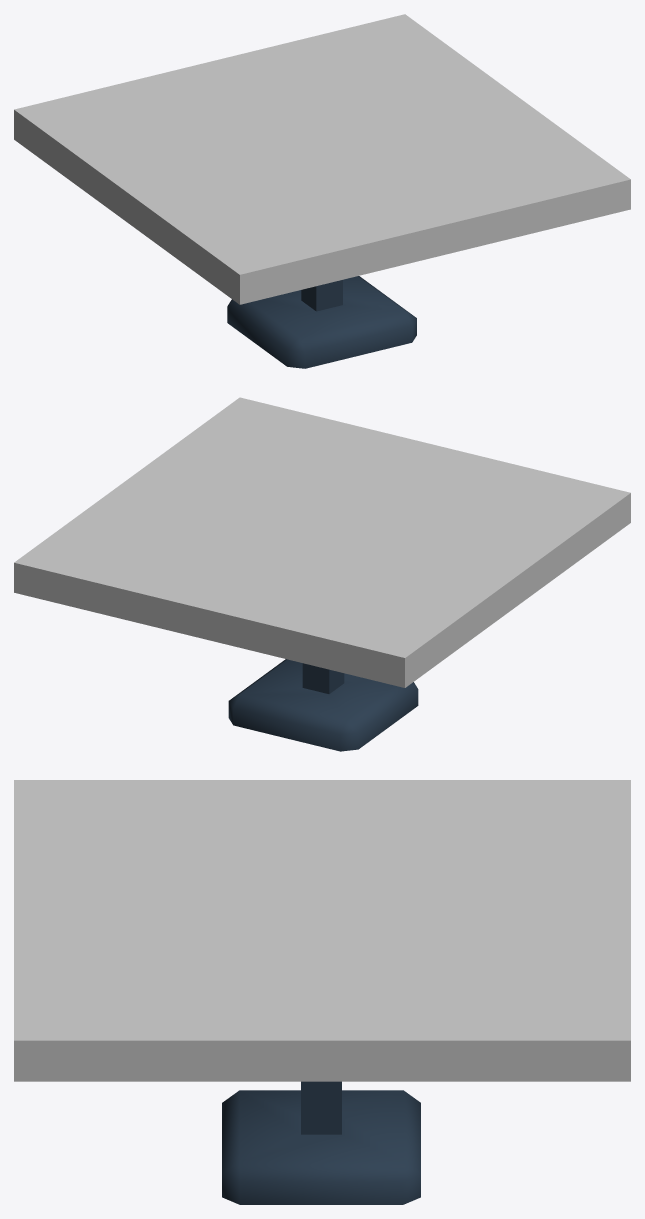
The model's file is Loca-Table-3.fbx.
The picture shows the model from 3 angles, top to bottom: view 1: azimuth 30°, elevation 25°; view 2: azimuth 150°, elevation 25°; view 3: azimuth 270°, elevation 25°; orthographic projection. The views are drawn at different scales.
Parts seen in each view (by area): view 1: Loca-Table-3; view 2: Loca-Table-3; view 3: Loca-Table-3.
Part boxes in pixels (x1,y1,x2,y2): Loca-Table-3: [14, 14, 630, 368]; Loca-Table-3: [14, 397, 630, 751]; Loca-Table-3: [14, 780, 630, 1204].
Size of the model in its own units: 2 by 0.9 by 2.
